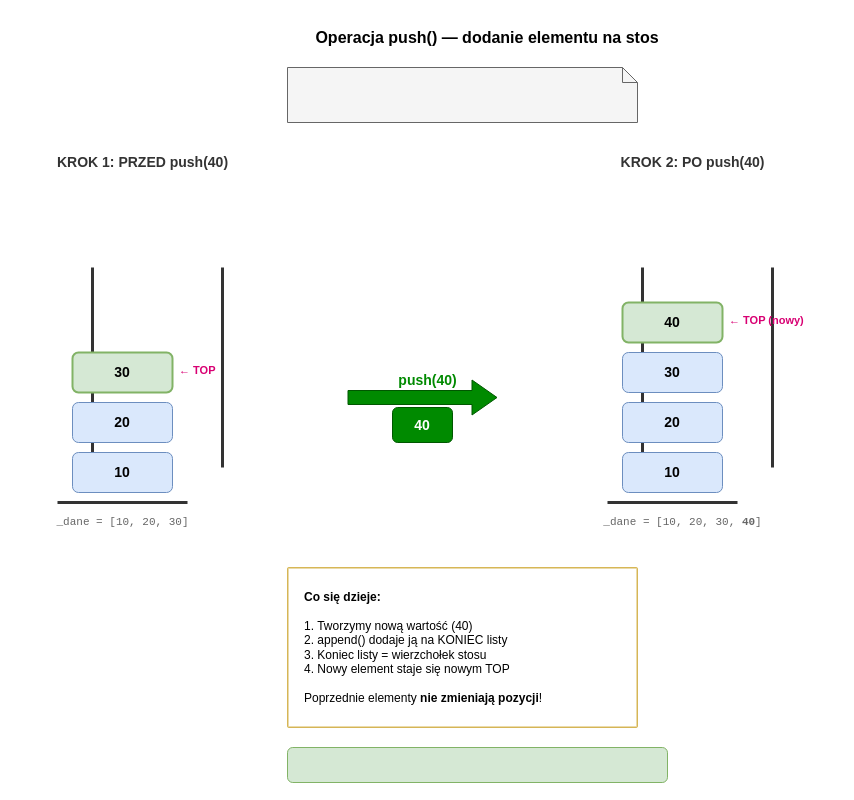
Image size: 854x800. Some labels were removed from this diagram. Each missing label, with the centre of its shape:
def push(self, wartosc): self._dane.append(wartosc): (462,94)
Złożoność: O(1) — jedna operacja, niezależnie od rozmiaru stosu: (477,764)
